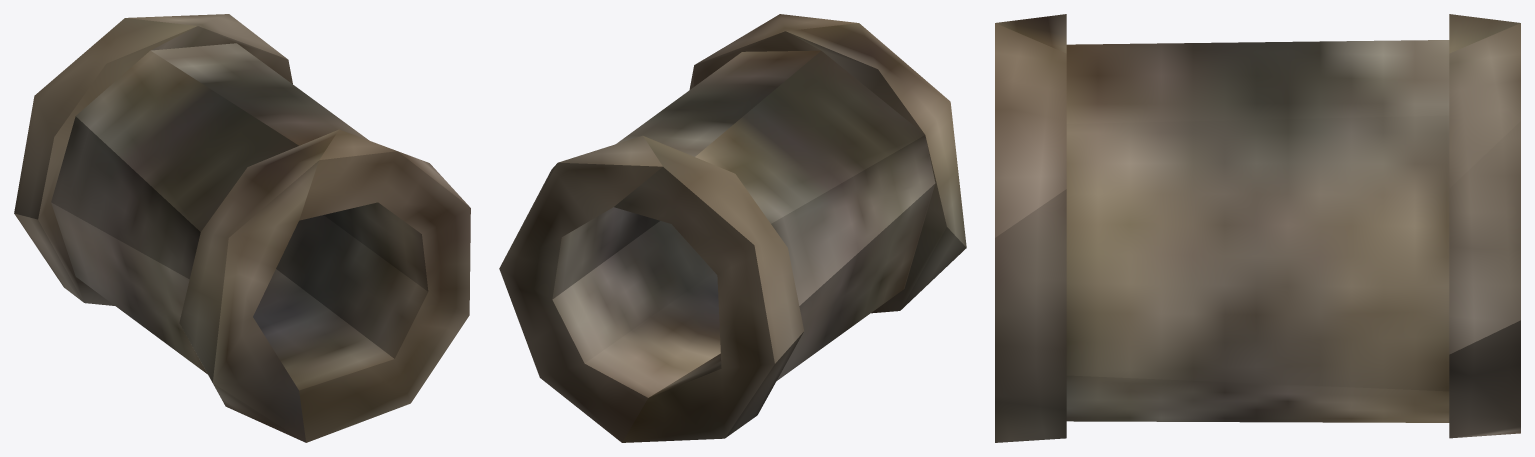
File: pipe-straight-short.lod1.glb
The picture shows the model from 3 angles, left to right: view 1: azimuth 30°, elevation 25°; view 2: azimuth 150°, elevation 25°; view 3: azimuth 270°, elevation 25°; orthographic projection. The views are drawn at different scales.
Parts seen in each view (by area): view 1: pipe-straight-short; view 2: pipe-straight-short; view 3: pipe-straight-short.
Part boxes in pixels (<box>): pipe-straight-short: <box>14,14,470,442</box>; pipe-straight-short: <box>499,14,966,442</box>; pipe-straight-short: <box>995,14,1520,442</box>.
Bounding box in the file's own units: 0.2877 × 0.2829 × 0.3514.
Materials: 1 (1 with a texture image).
